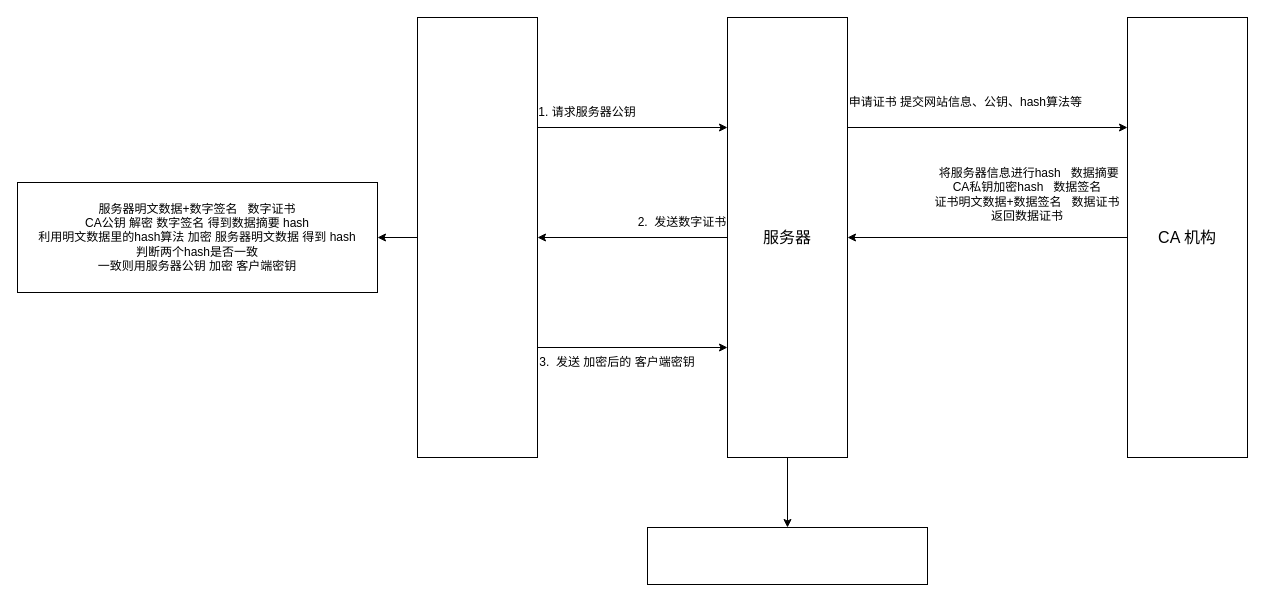
The diagram is 1265 pixels wide and 602 high, and some of its shapes have lost their labels. The shapes that lost their labels are listed below. From the top down, each one's centre as x and y in pixels, then its label:
At point 477,237: "浏览器".
At point 787,555: "4. 服务器公钥 解密 加密后的客户端密钥 得到 客户端密钥 之后用这个密钥加密数据".
